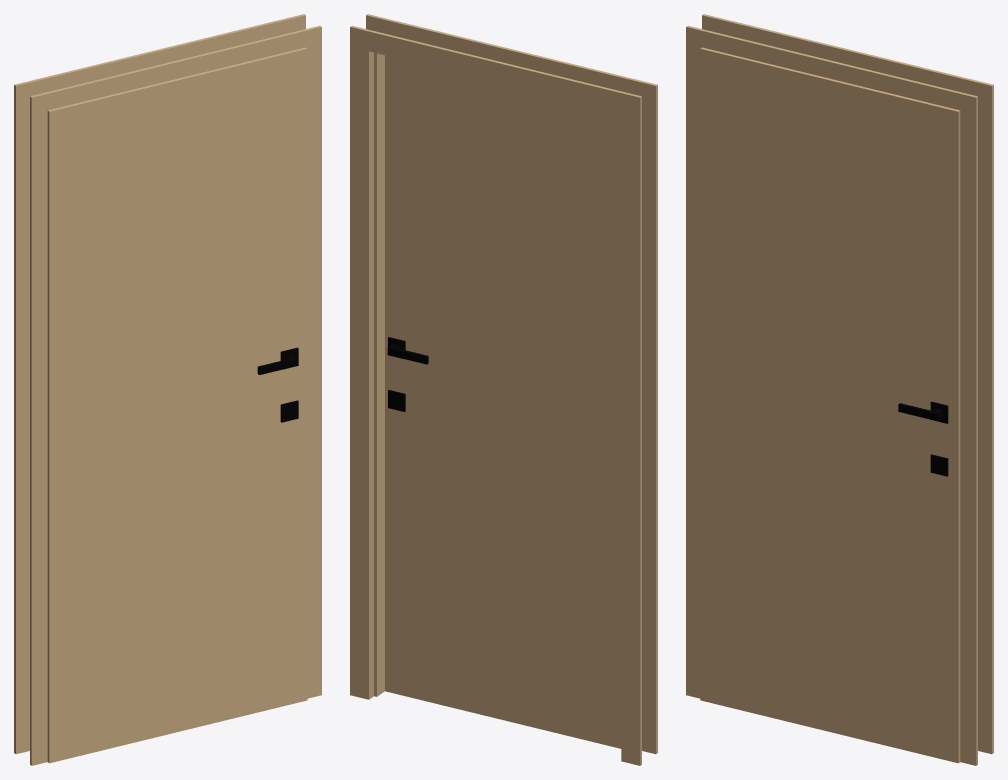
The model's file is door.glb.
3 renders of one model, left to right at view 1: azimuth 30°, elevation 25°; view 2: azimuth 150°, elevation 25°; view 3: azimuth 330°, elevation 25°, orthographic.
Parts seen in each view (by area): view 1: pane, casing, handle; view 2: pane, casing, handle; view 3: pane, casing, handle.
Part boxes in pixels (bbox=[...]): pane: bbox=[47, 47, 307, 763]; casing: bbox=[14, 14, 321, 765]; handle: bbox=[257, 347, 298, 422]; pane: bbox=[385, 55, 621, 748]; casing: bbox=[350, 14, 657, 765]; handle: bbox=[387, 337, 428, 411]; pane: bbox=[700, 47, 960, 763]; casing: bbox=[686, 14, 993, 765]; handle: bbox=[898, 401, 948, 476].
Bounding box in the file's own units: 0.948 × 2.09 × 0.144.
